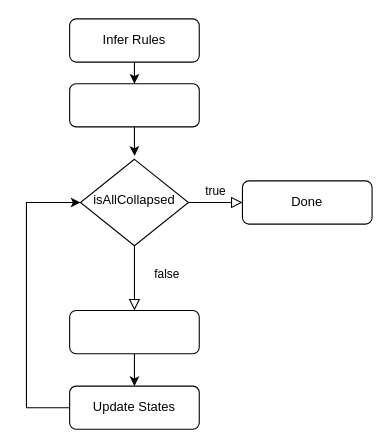
Some shapes in this 391 by 448 pixel diagram are drawn without their labels. Each missing label, with the centre of its shape:
"Collapse Cell" belongs at [134,331].
"Initialize Grid" belongs at [134,105].
